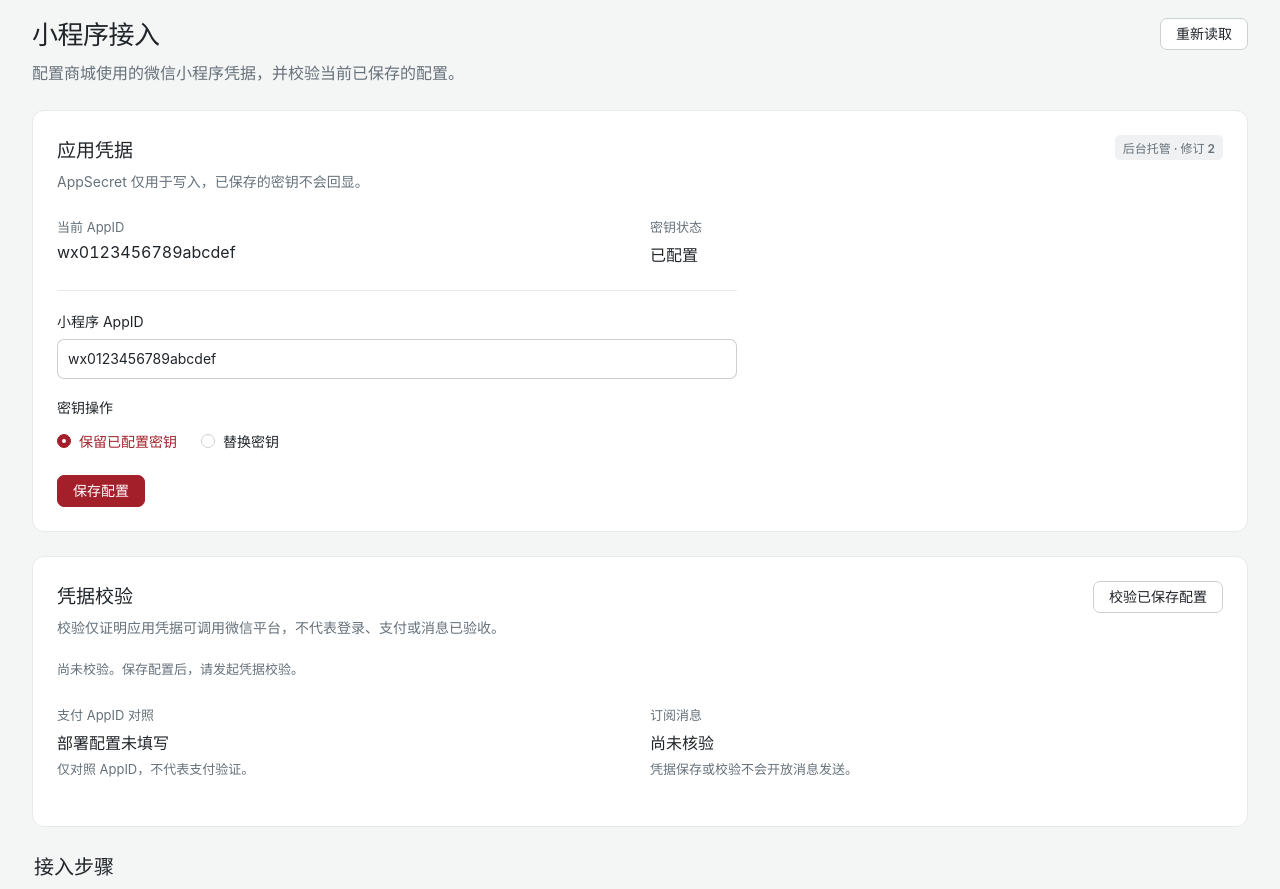
Test: WeChat integration boundary › keeps edits and blocks retries after rejection or unknown outcome until a read
Click the radio button labelled "替换密钥": click(240, 442) [201,433,279,450]
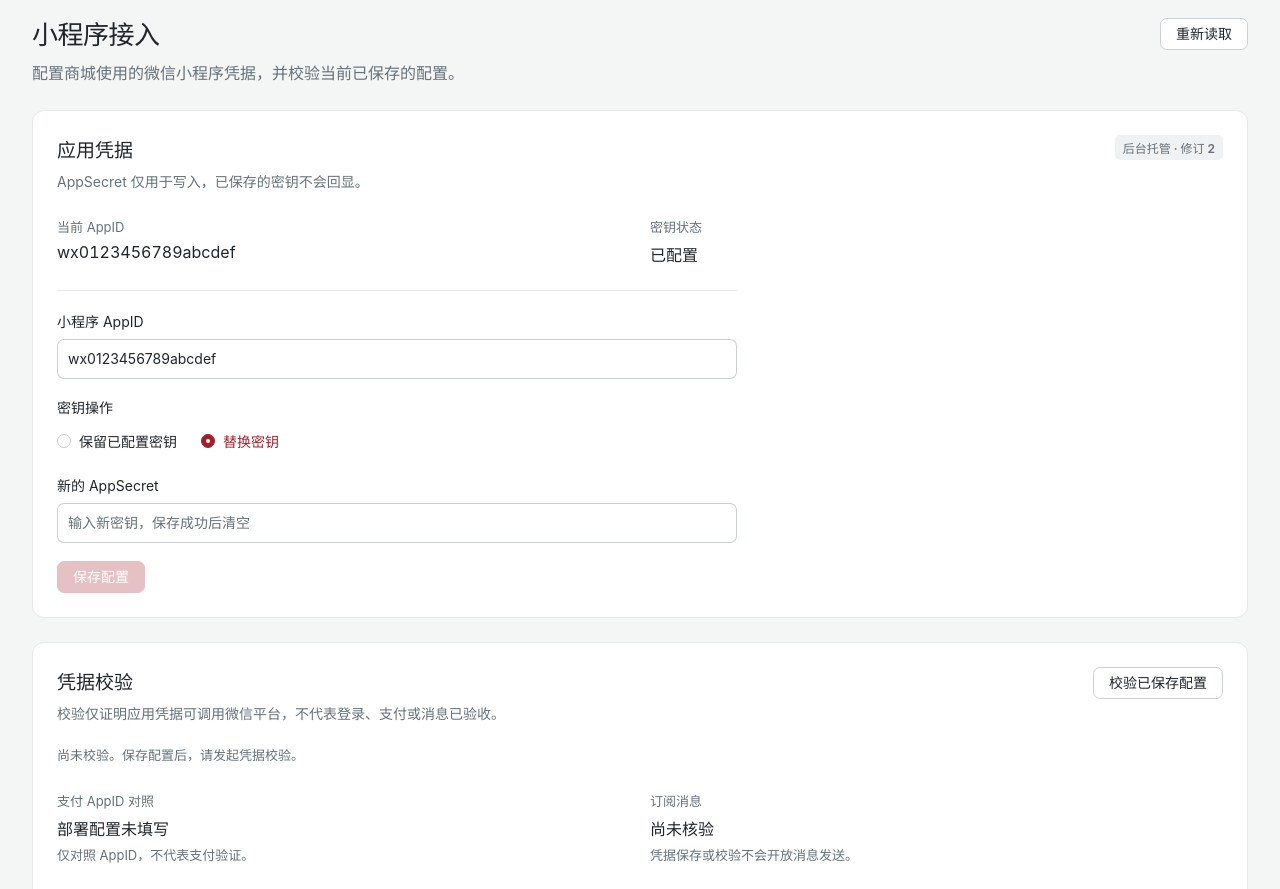
In the password field with id "wechat-secret": (397, 523) [68,504,726,542], type "synthetic-secret"
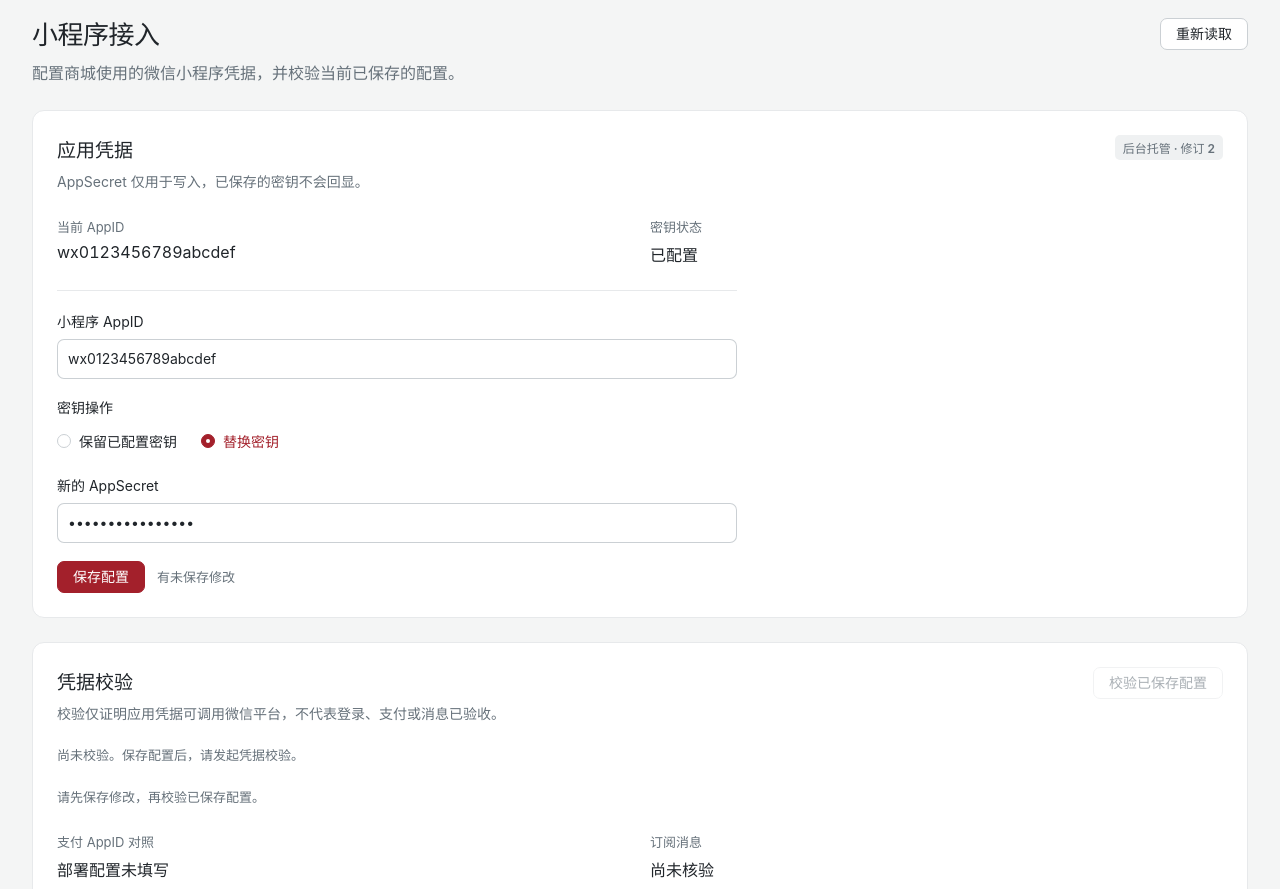
Click the button "保存配置": click(101, 577) [57,561,145,593]
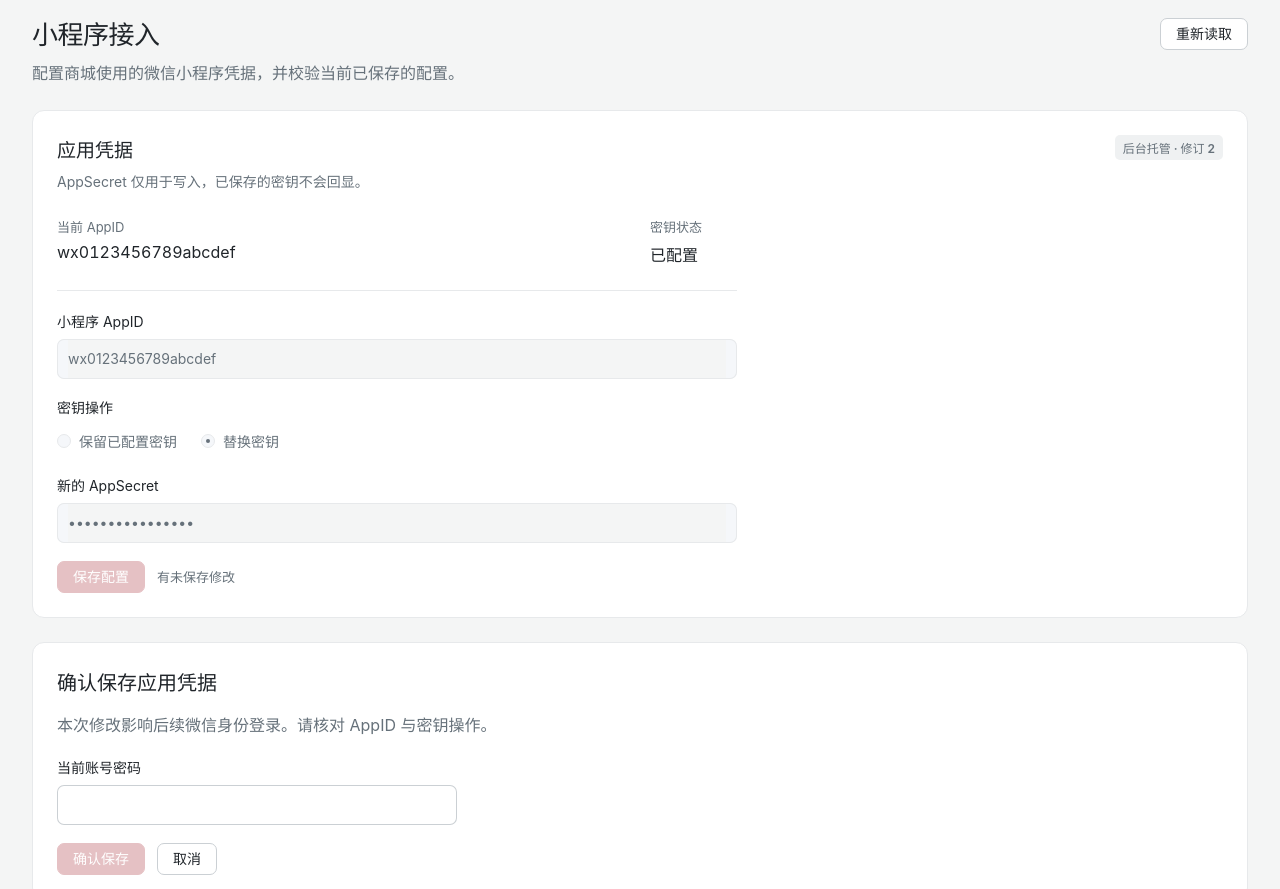
In the password field with id "wechat-confirm-password": (257, 805) [68,786,446,824], type "synthetic-password"
(page scrolled)
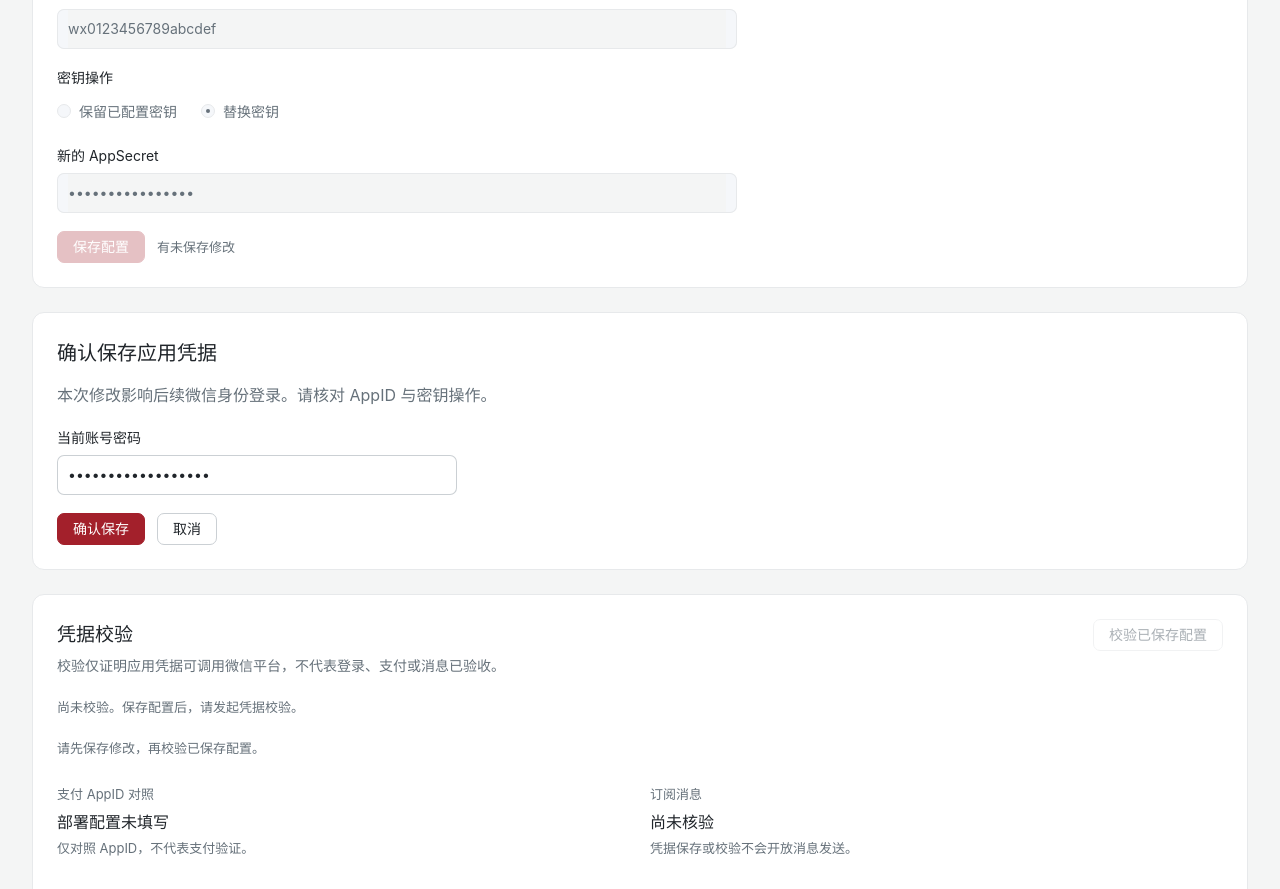
Submit the form named "二次确认", box [32,312,1248,570]
(page scrolled)
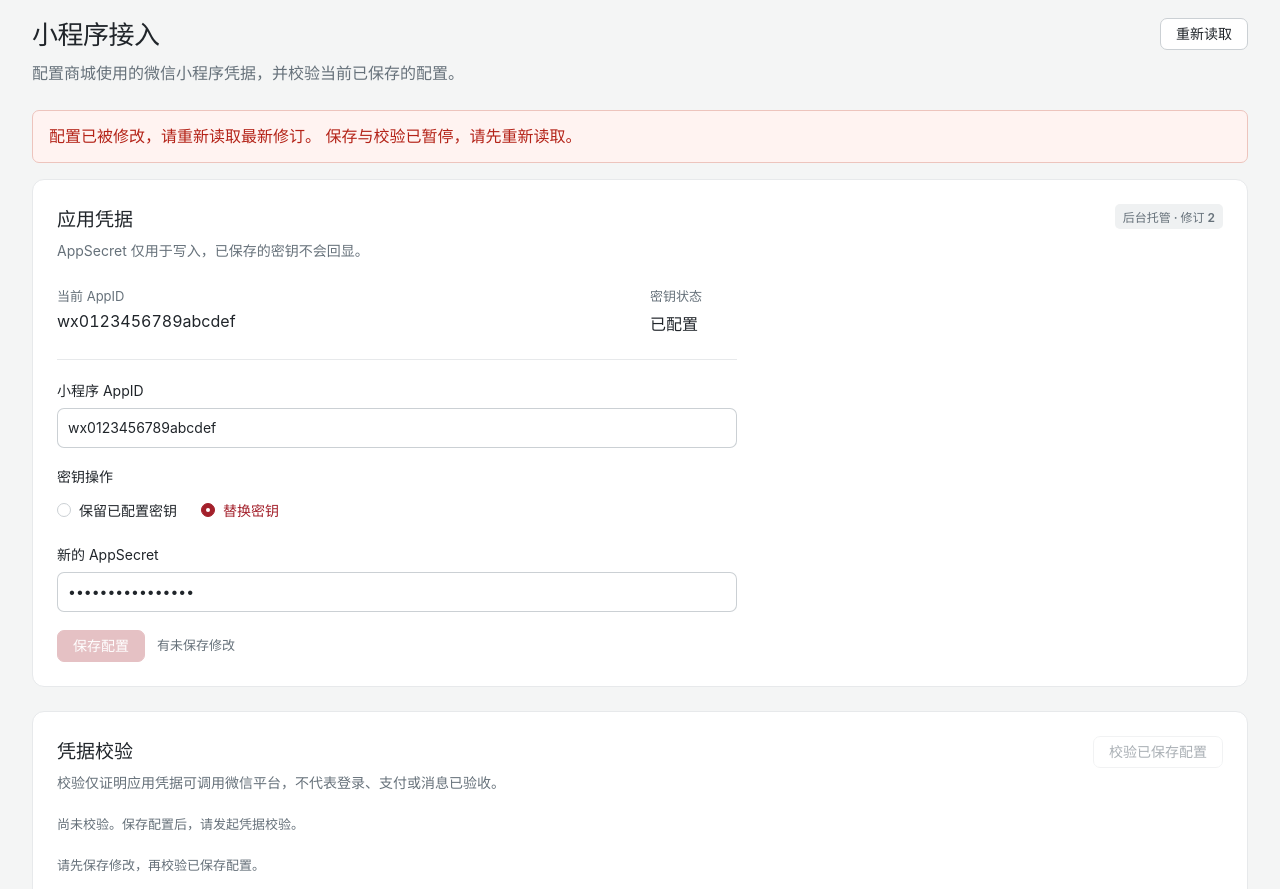
expect the button "保存配置" is disabled: met, box [57,630,145,662]
expect the button "校验已保存配置" is disabled: met, box [1093,736,1223,768]
Click the button "重新读取": click(1204, 34) [1160,18,1248,50]
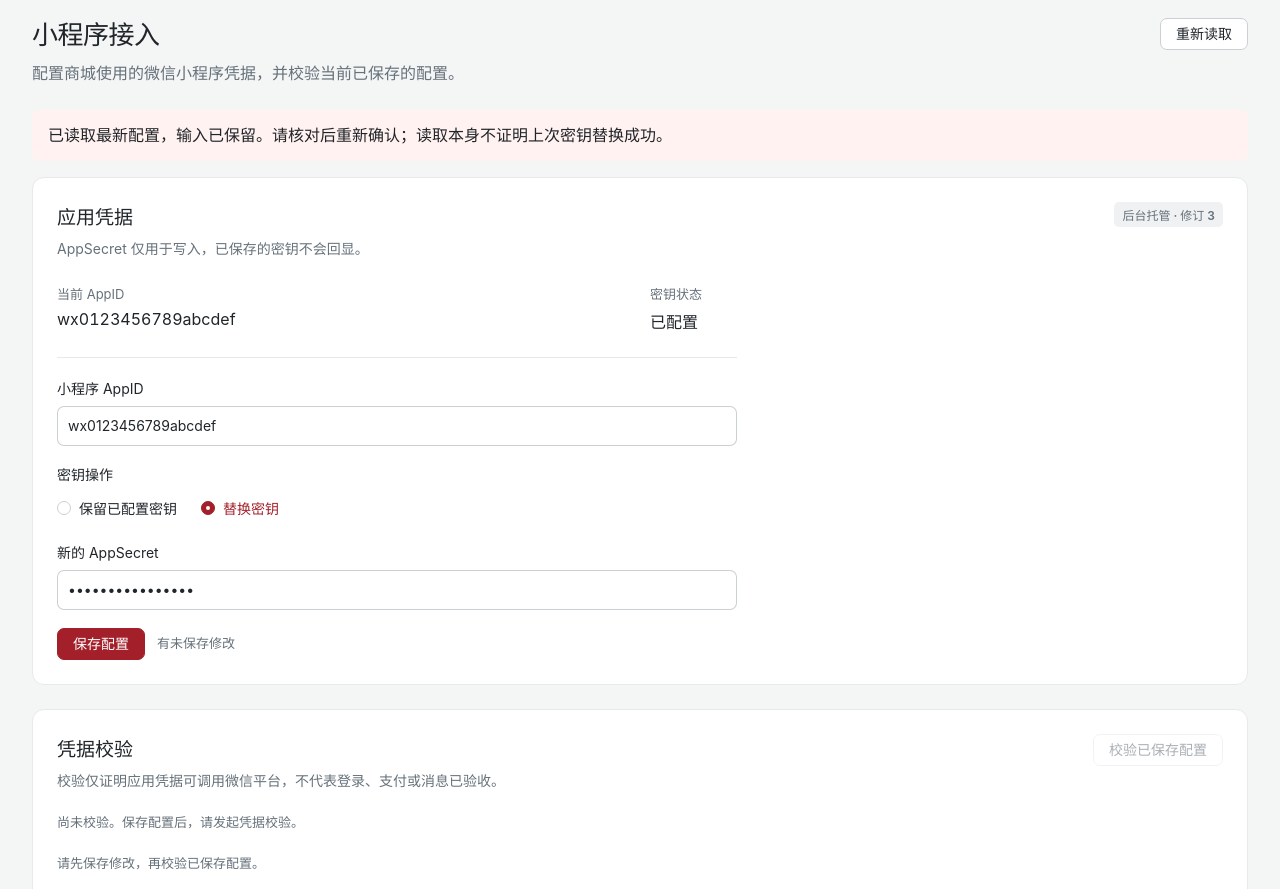
expect the text "请核对后重新确认" is shown: met, box [48,125,672,145]
expect the button "保存配置" is enabled: met, box [57,628,145,660]
